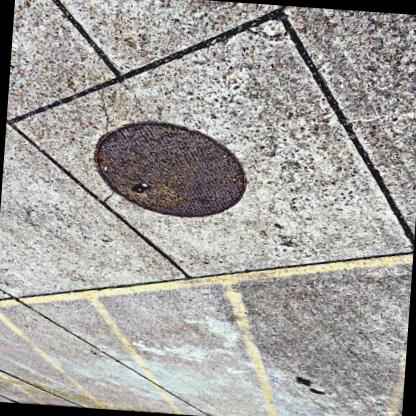manholes: (68, 112, 259, 240)
